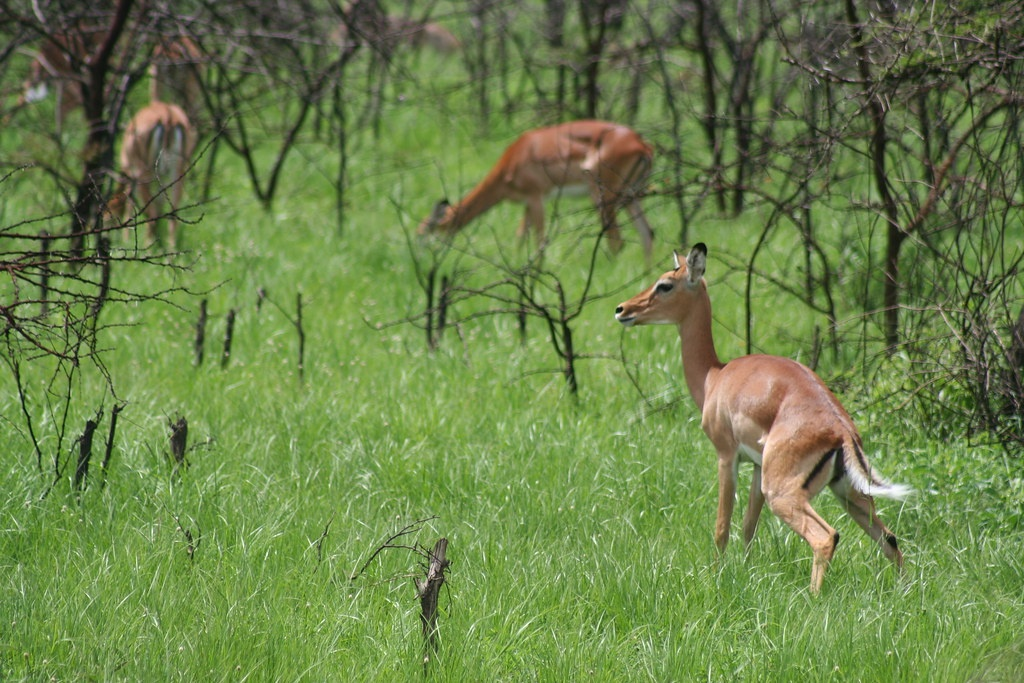impala: (608, 238, 924, 597), (410, 111, 663, 275), (103, 99, 202, 267)
